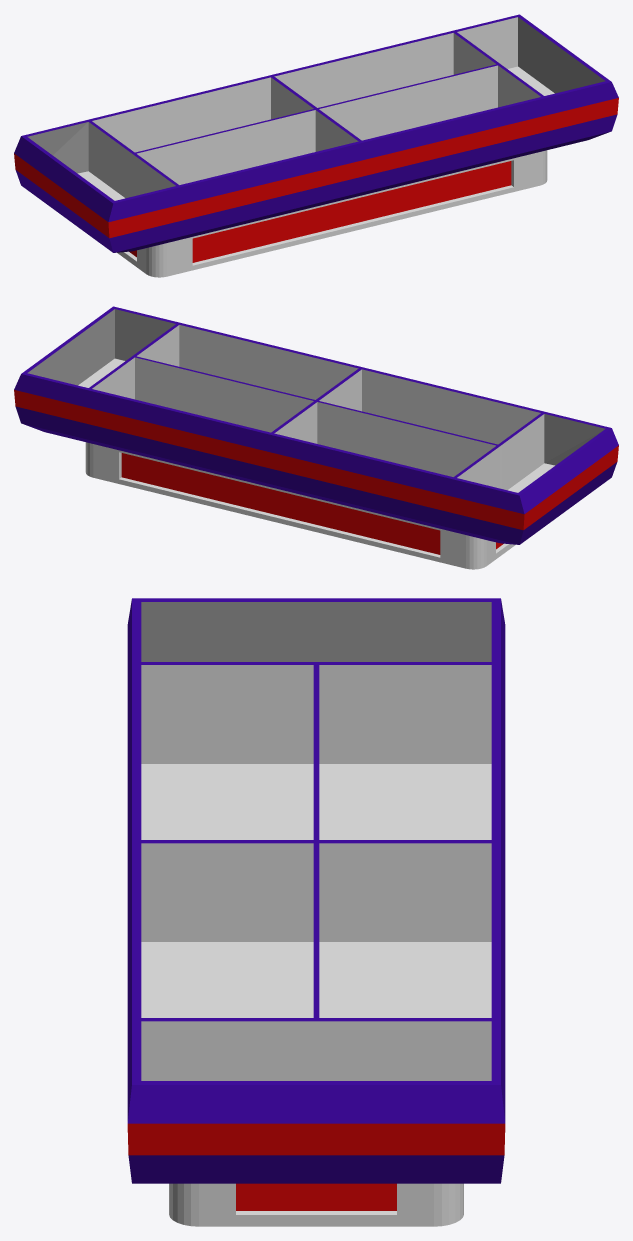
File: freezer.fbx
The picture shows the model from 3 angles, top to bottom: view 1: azimuth 30°, elevation 25°; view 2: azimuth 150°, elevation 25°; view 3: azimuth 270°, elevation 25°; orthographic projection. The views are drawn at different scales.
Visible parts, largest first — view 1: pCube1; view 2: pCube1; view 3: pCube1.
Part boxes in pixels (box(x1,y1,x2,y2)): pCube1: box(14, 14, 618, 277); pCube1: box(14, 306, 618, 569); pCube1: box(127, 598, 505, 1226).
Size of the model in its own units: 6.47 by 1.15 by 2.07.
